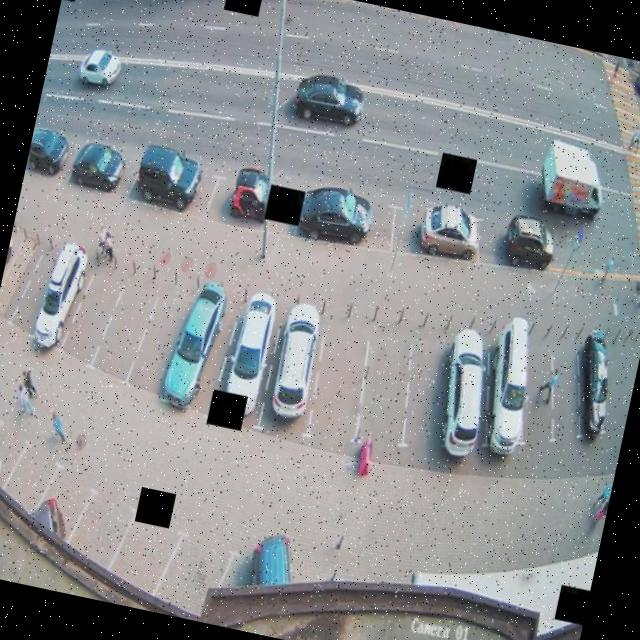empty: (298, 312, 379, 451), (120, 276, 204, 398), (493, 328, 572, 451), (386, 334, 466, 455), (86, 263, 168, 379), (53, 253, 135, 367), (530, 336, 602, 449), (6, 236, 70, 337), (0, 232, 53, 339)
occupied: (416, 318, 506, 462), (154, 286, 248, 420), (246, 298, 333, 442), (458, 325, 547, 465), (205, 296, 289, 436), (342, 324, 423, 458), (22, 248, 108, 360), (386, 197, 490, 270), (206, 169, 304, 245), (562, 335, 622, 456), (298, 190, 399, 257), (130, 152, 217, 221), (471, 206, 554, 276), (71, 148, 141, 196), (23, 131, 80, 189), (0, 226, 24, 321)
